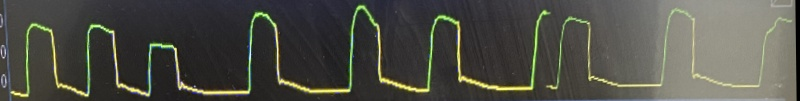normal_pressure: (0, 0, 768, 101)
